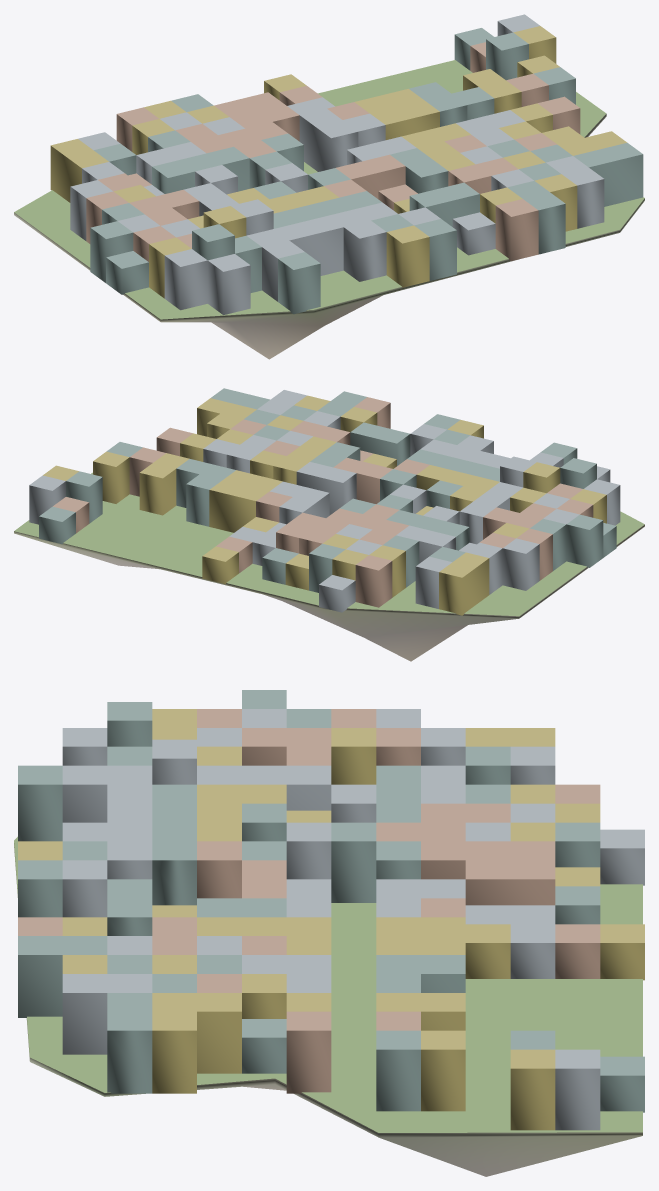
File: SKY-074.lod2.glb
3 views of the same model, one above another, from view 1: azimuth 30°, elevation 25°; view 2: azimuth 150°, elevation 25°; view 3: azimuth 270°, elevation 25° (orthographic). The views are drawn at different scales.
Parts seen in each view (by area): view 1: warren_hull, deck, rock; view 2: warren_hull, deck, rock; view 3: warren_hull, deck, rock.
Boxes of the visible parts, <box> form: warren_hull: <box>50,14,643,314</box>; deck: <box>14,60,644,319</box>; rock: <box>14,114,644,359</box>; warren_hull: <box>29,388,620,615</box>; deck: <box>14,472,644,616</box>; rock: <box>14,524,644,661</box>; warren_hull: <box>18,690,644,1130</box>; deck: <box>14,836,642,1132</box>; rock: <box>14,843,642,1176</box>.
Size of the model in its own units: 302 by 110 by 211.
